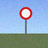sign: (20, 7, 32, 40)
